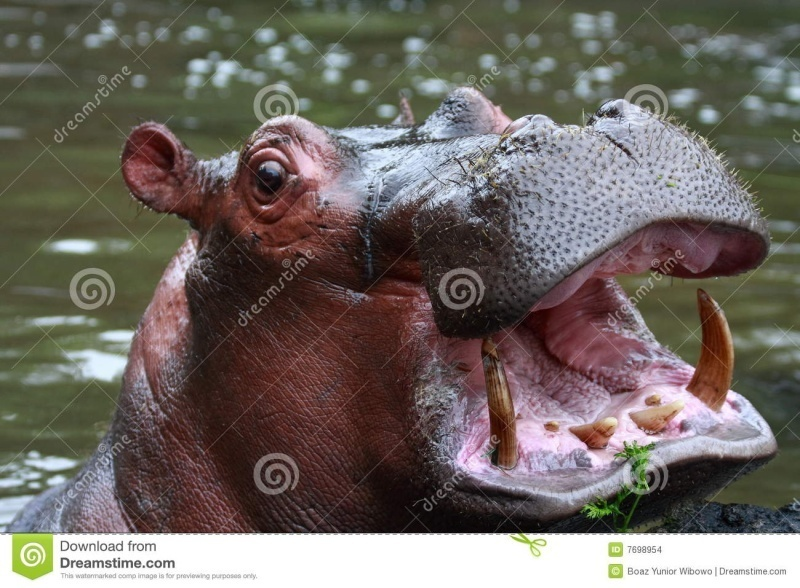hipopotamo: (75, 84, 791, 542)
